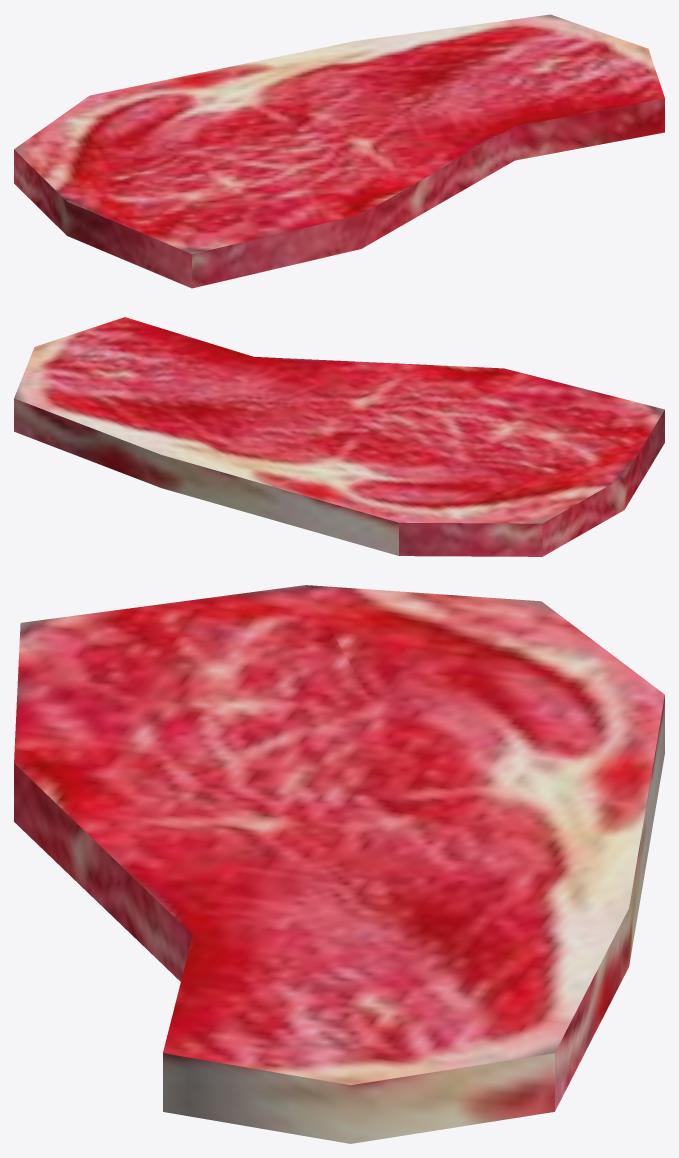
File: Raw_meat_01.glb
3 views of the same model, one above another, from view 1: azimuth 30°, elevation 25°; view 2: azimuth 150°, elevation 25°; view 3: azimuth 270°, elevation 25° (orthographic). The views are drawn at different scales.
Parts seen in each view (by area): view 1: Raw_meat_01; view 2: Raw_meat_01; view 3: Raw_meat_01.
Part boxes in pixels (x1,y1,x2,y2): Raw_meat_01: (14, 14, 664, 288); Raw_meat_01: (14, 317, 664, 556); Raw_meat_01: (14, 585, 664, 1143).
Size of the model in its own units: 0.3395 by 0.0197 by 0.1879.
1 material, 1 textured.
